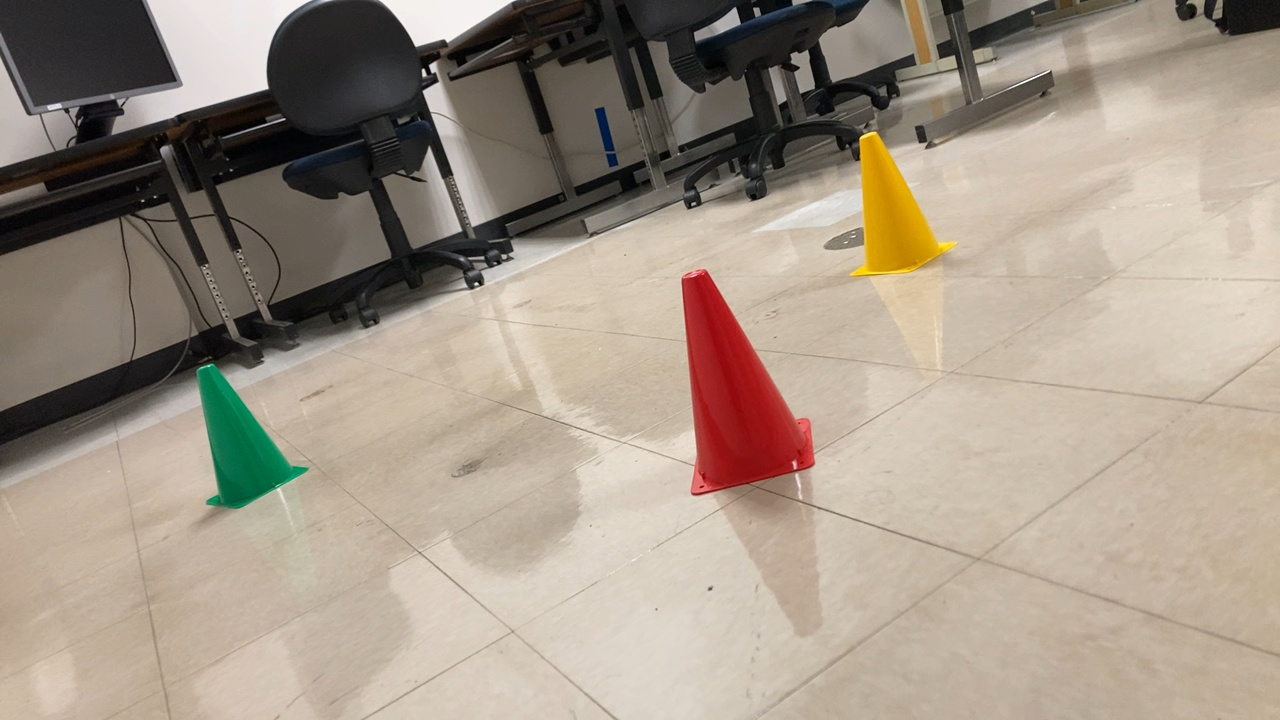green_cone: (182, 353, 315, 515)
red_cone: (662, 262, 829, 508)
yellow_cone: (846, 124, 957, 276)
